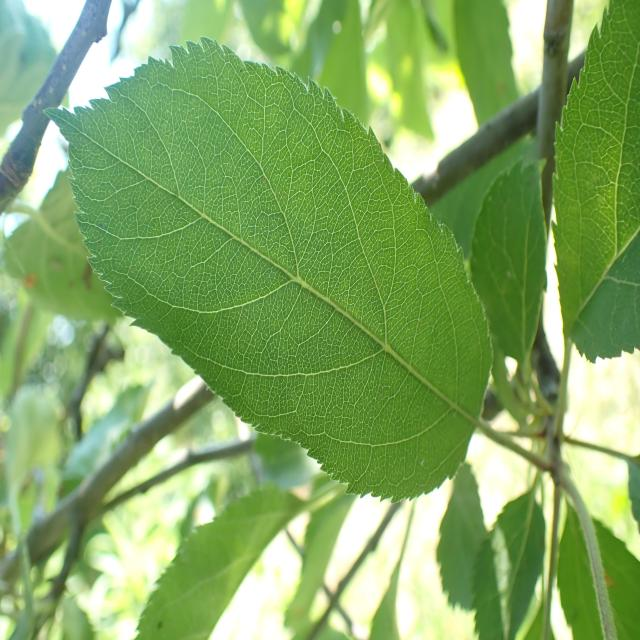healthy: (42, 36, 494, 506), (551, 0, 640, 364), (470, 155, 548, 379)
